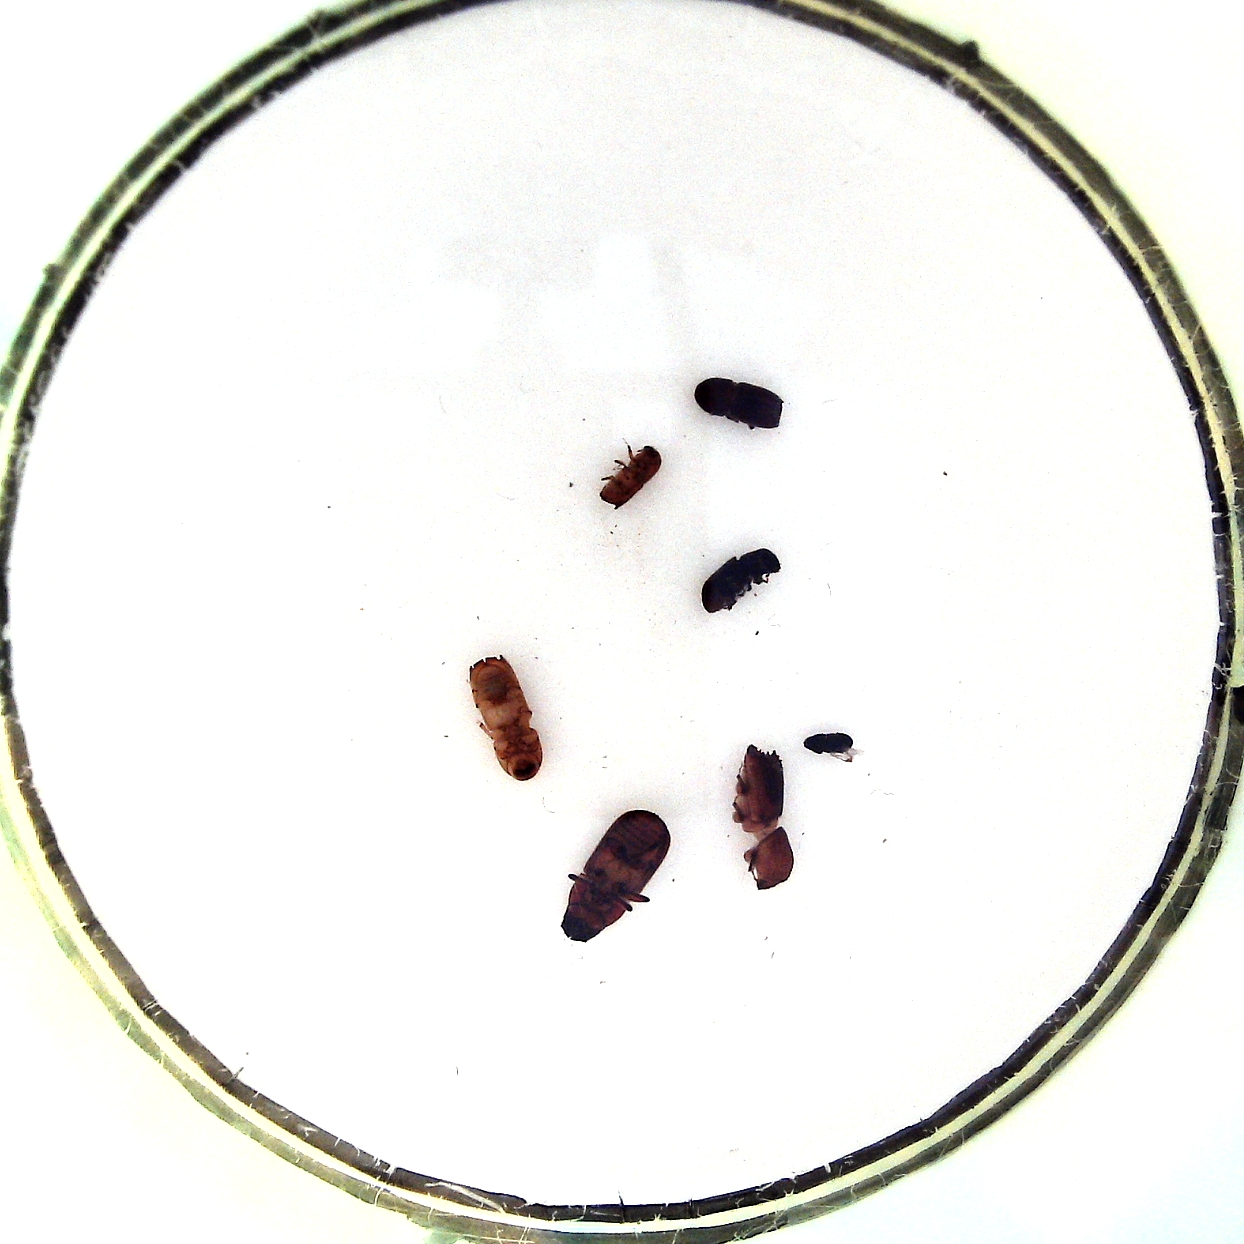Boerner: (463, 648, 545, 784), (727, 740, 797, 893)
Leconte: (555, 807, 671, 946)
Linnaeus: (691, 373, 788, 435)
acuminatus: (598, 439, 666, 511)
armandi: (696, 545, 783, 616)
coleoptera: (804, 729, 860, 763)
